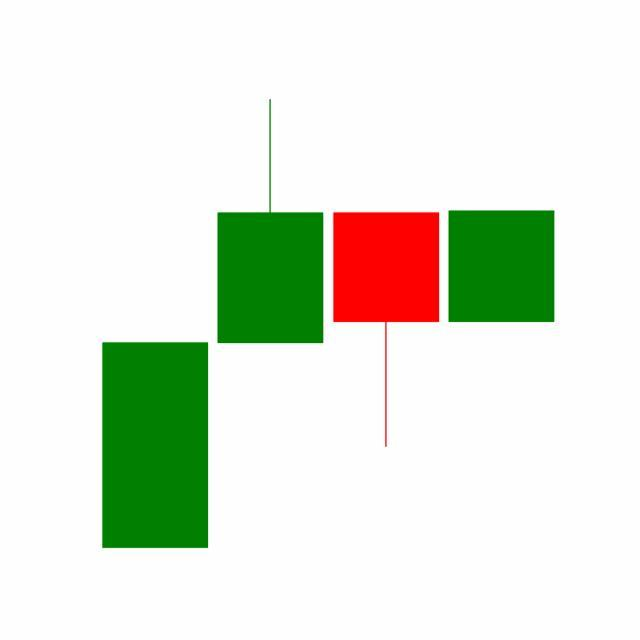Hammer: (329, 211, 445, 451)
